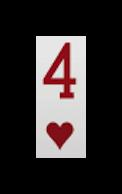4H: (38, 39, 82, 154)
